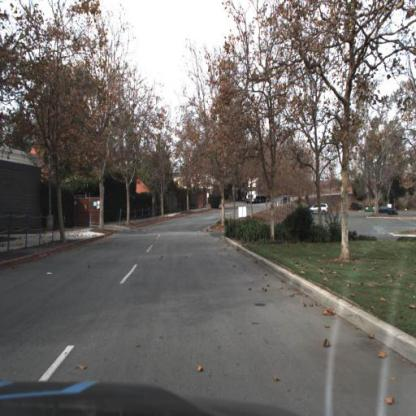car: (368, 204, 394, 219), (378, 203, 396, 217), (309, 203, 329, 215)
truck: (246, 179, 276, 208)
